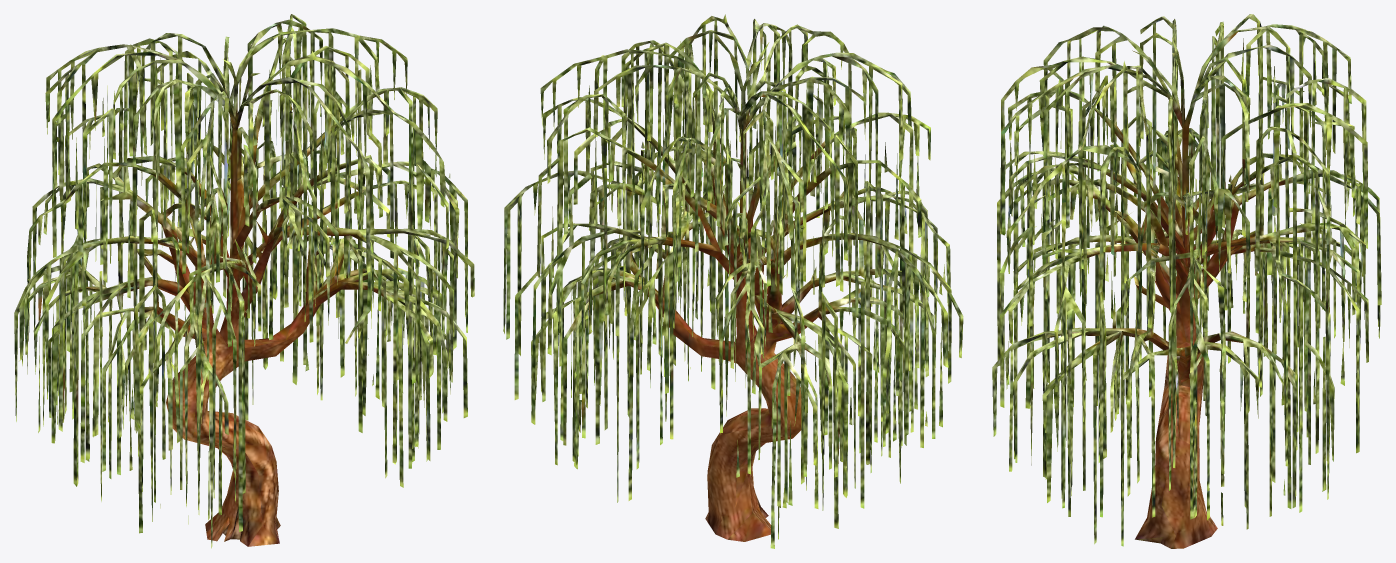
File: t_willow_lo.glb
The picture shows the model from 3 angles, left to right: view 1: azimuth 30°, elevation 25°; view 2: azimuth 150°, elevation 25°; view 3: azimuth 270°, elevation 25°; orthographic projection. The views are drawn at different scales.
Visible parts, largest first — view 1: t_willow; view 2: t_willow; view 3: t_willow.
Boxes of the visible parts, x1=… form: t_willow: x1=14, y1=14, x2=474, y2=548; t_willow: x1=503, y1=14, x2=963, y2=548; t_willow: x1=992, y1=14, x2=1381, y2=548.
Bounding box in the file's own units: 8.64 × 8.99 × 6.44.
1 material, 1 textured.
